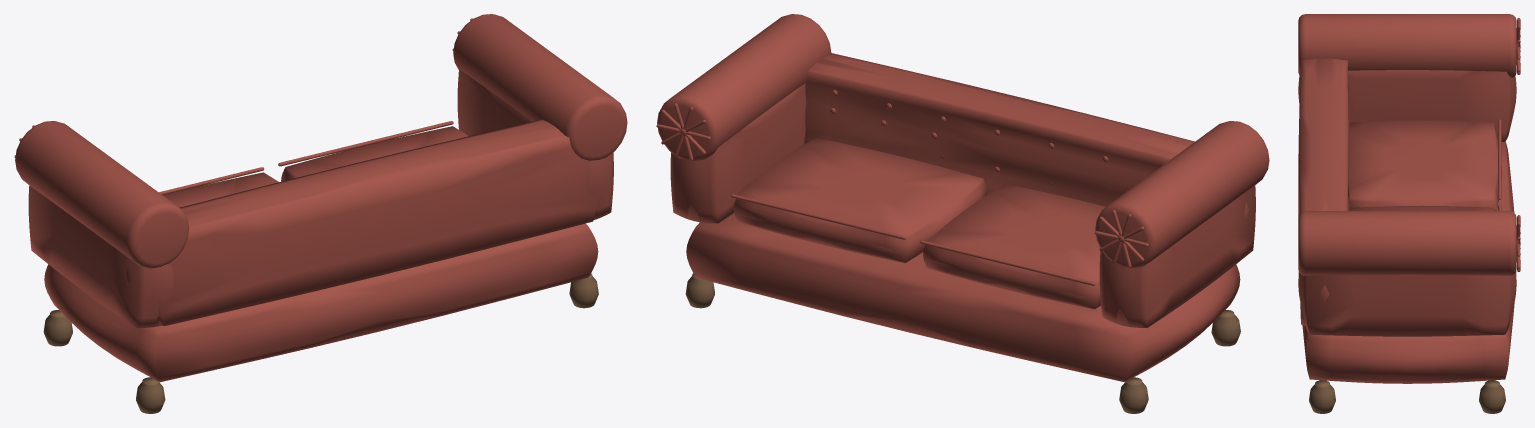
The model's file is chesterfield_21.glb.
3 renders of one model, left to right at view 1: azimuth 30°, elevation 25°; view 2: azimuth 150°, elevation 25°; view 3: azimuth 270°, elevation 25°, orthographic. The views are drawn at different scales.
Visible parts, largest first — view 1: chesterfield_21; view 2: chesterfield_21; view 3: chesterfield_21.
Boxes of the visible parts, x1,y1,x2,y2 form: chesterfield_21: (14,14,627,413); chesterfield_21: (656,14,1269,413); chesterfield_21: (1298,14,1520,413).
Size of the model in its own units: 2.19 by 0.895 by 0.9166.
